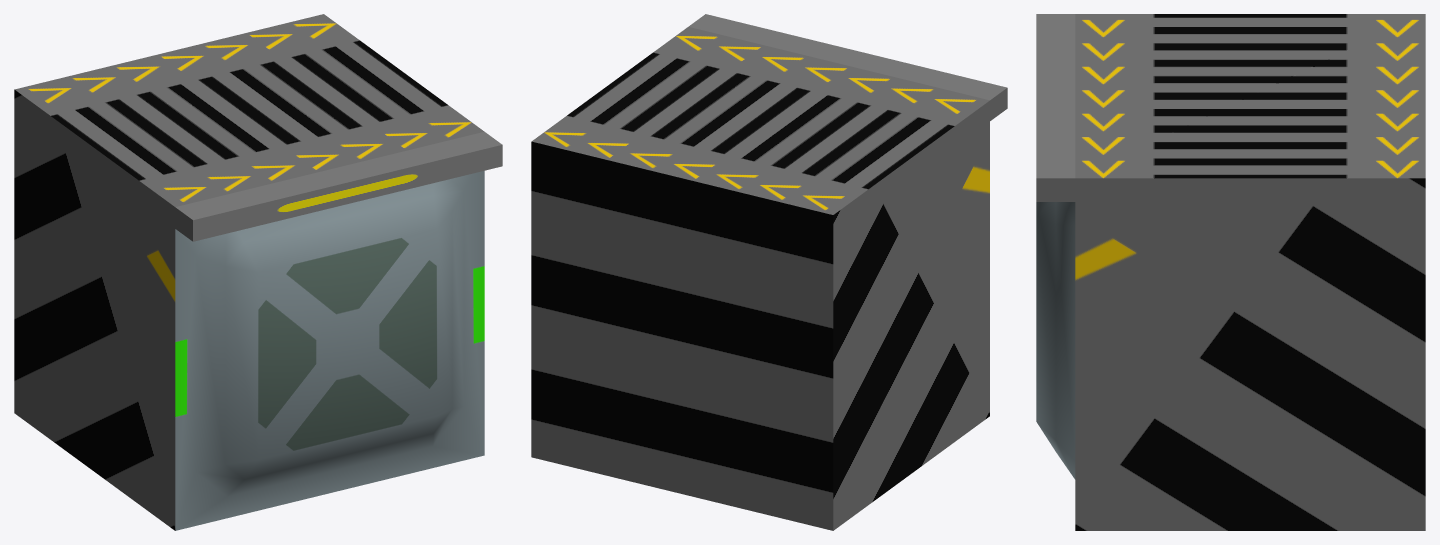
Rendered from MidPartFloor.fbx.
The picture shows the model from 3 angles, left to right: view 1: azimuth 30°, elevation 25°; view 2: azimuth 150°, elevation 25°; view 3: azimuth 270°, elevation 25°; orthographic projection. The views are drawn at different scales.
Parts seen in each view (by area): view 1: geo1; view 2: geo1; view 3: geo1.
Part boxes in pixels (box(x1,y1,x2,y2)): geo1: box(14, 14, 502, 530); geo1: box(531, 14, 1007, 530); geo1: box(1036, 14, 1425, 530).
Size of the model in its own units: 3 by 3 by 3.
